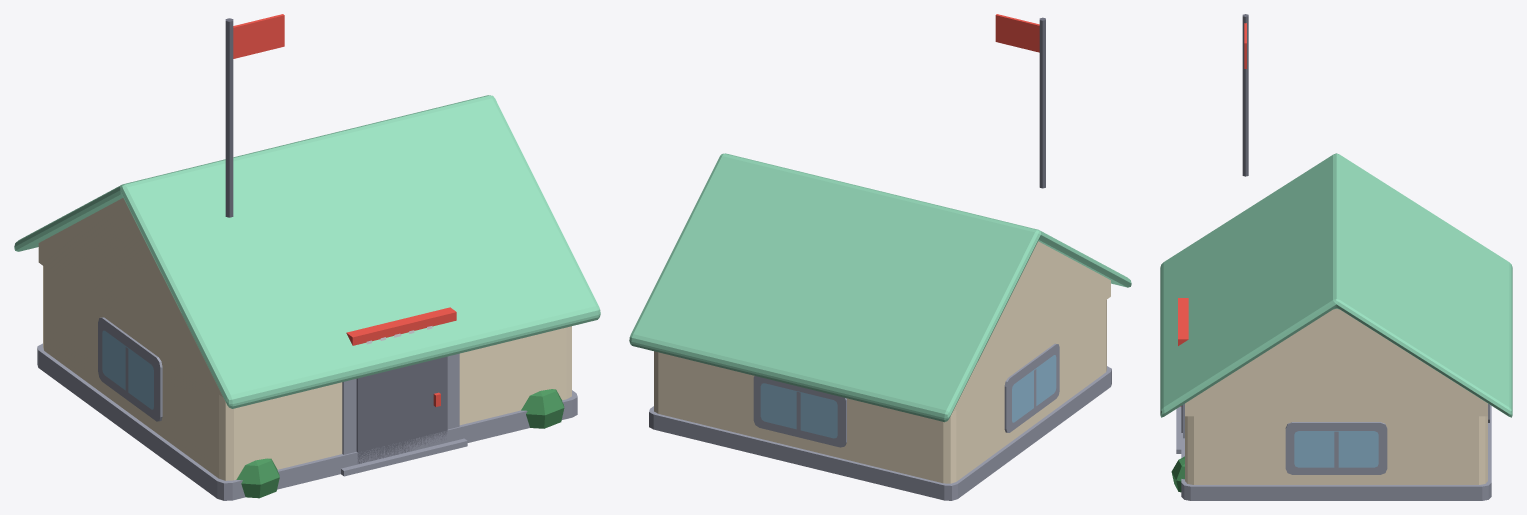
Rendered from community-hall-1x1.glb.
3 renders of one model, left to right at view 1: azimuth 30°, elevation 25°; view 2: azimuth 150°, elevation 25°; view 3: azimuth 270°, elevation 25°, orthographic. The views are drawn at different scales.
Visible parts, largest first — view 1: community-hall-1x1; view 2: community-hall-1x1; view 3: community-hall-1x1.
Boxes of the visible parts, bbox=[...] form: community-hall-1x1: bbox=[14, 14, 600, 500]; community-hall-1x1: bbox=[629, 14, 1131, 500]; community-hall-1x1: bbox=[1160, 14, 1512, 500].
Size of the model in its own units: 1 by 1.13 by 1.
Materials: 1 (1 with a texture image).
